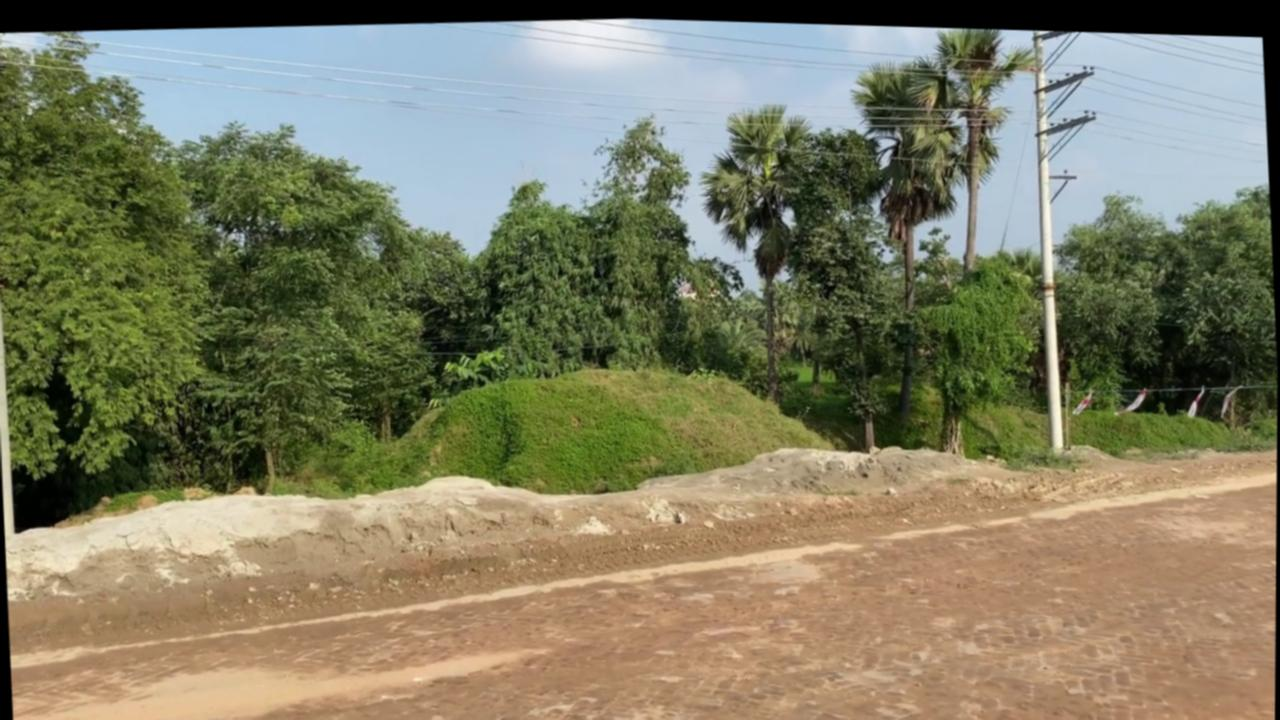Fence: (1062, 365, 1278, 431)
Light-pole: (1022, 24, 1117, 446)
Pole: (1024, 24, 1067, 444)
Traffic-sign: (844, 49, 981, 424), (692, 94, 830, 406)
